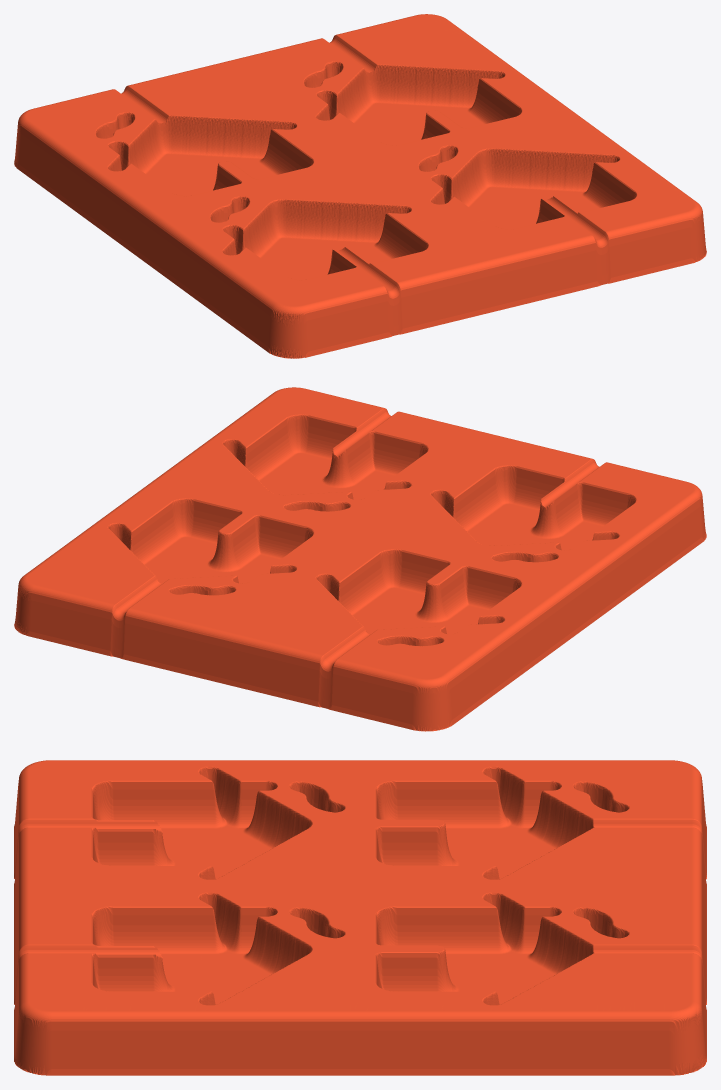
File: mold.glb
3 views of the same model, one above another, from view 1: azimuth 30°, elevation 25°; view 2: azimuth 150°, elevation 25°; view 3: azimuth 270°, elevation 25° (orthographic). The views are drawn at different scales.
Visible parts, largest first — view 1: geometry_0; view 2: geometry_0; view 3: geometry_0.
Part boxes in pixels (left/top/right/bottom): geometry_0: left=14, top=14, right=706, bottom=358; geometry_0: left=14, top=387, right=706, bottom=731; geometry_0: left=14, top=760, right=706, bottom=1075.
Size of the model in its own units: 0.1497 by 0.0155 by 0.1669.
